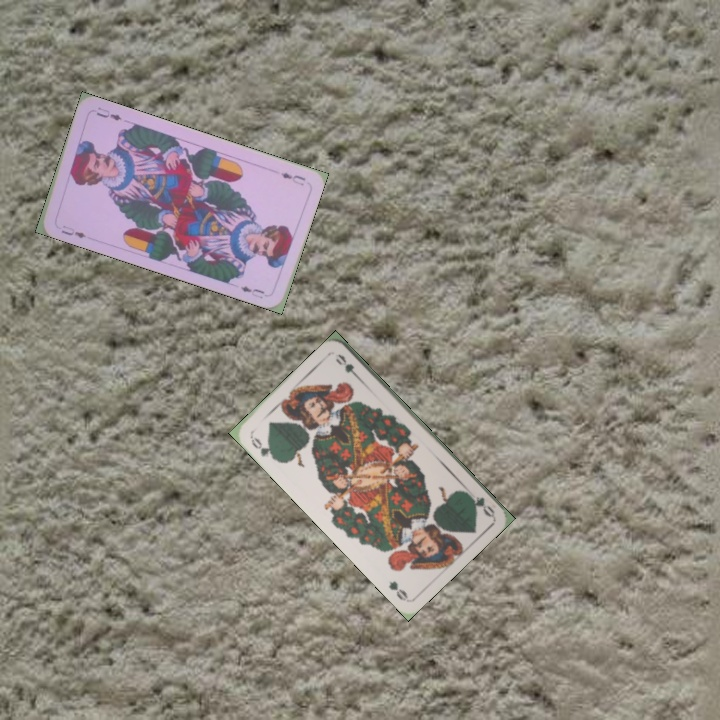EU: (57, 221, 88, 241), (277, 168, 308, 188)
GO: (461, 488, 497, 519), (247, 432, 279, 463)
